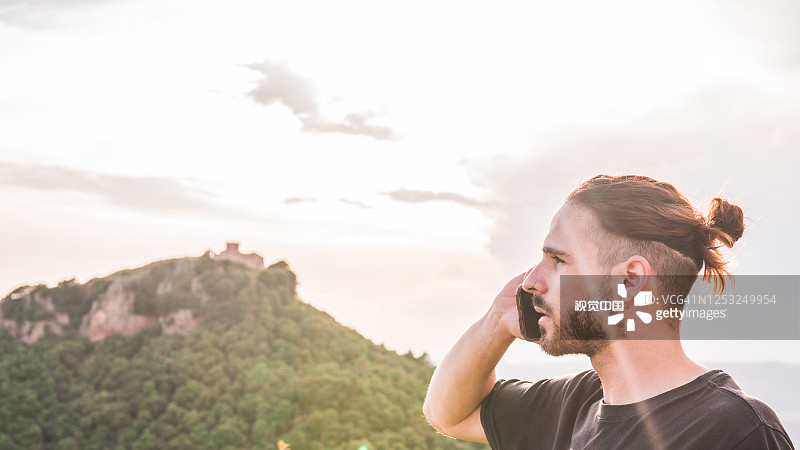calling: (478, 263, 559, 352)
